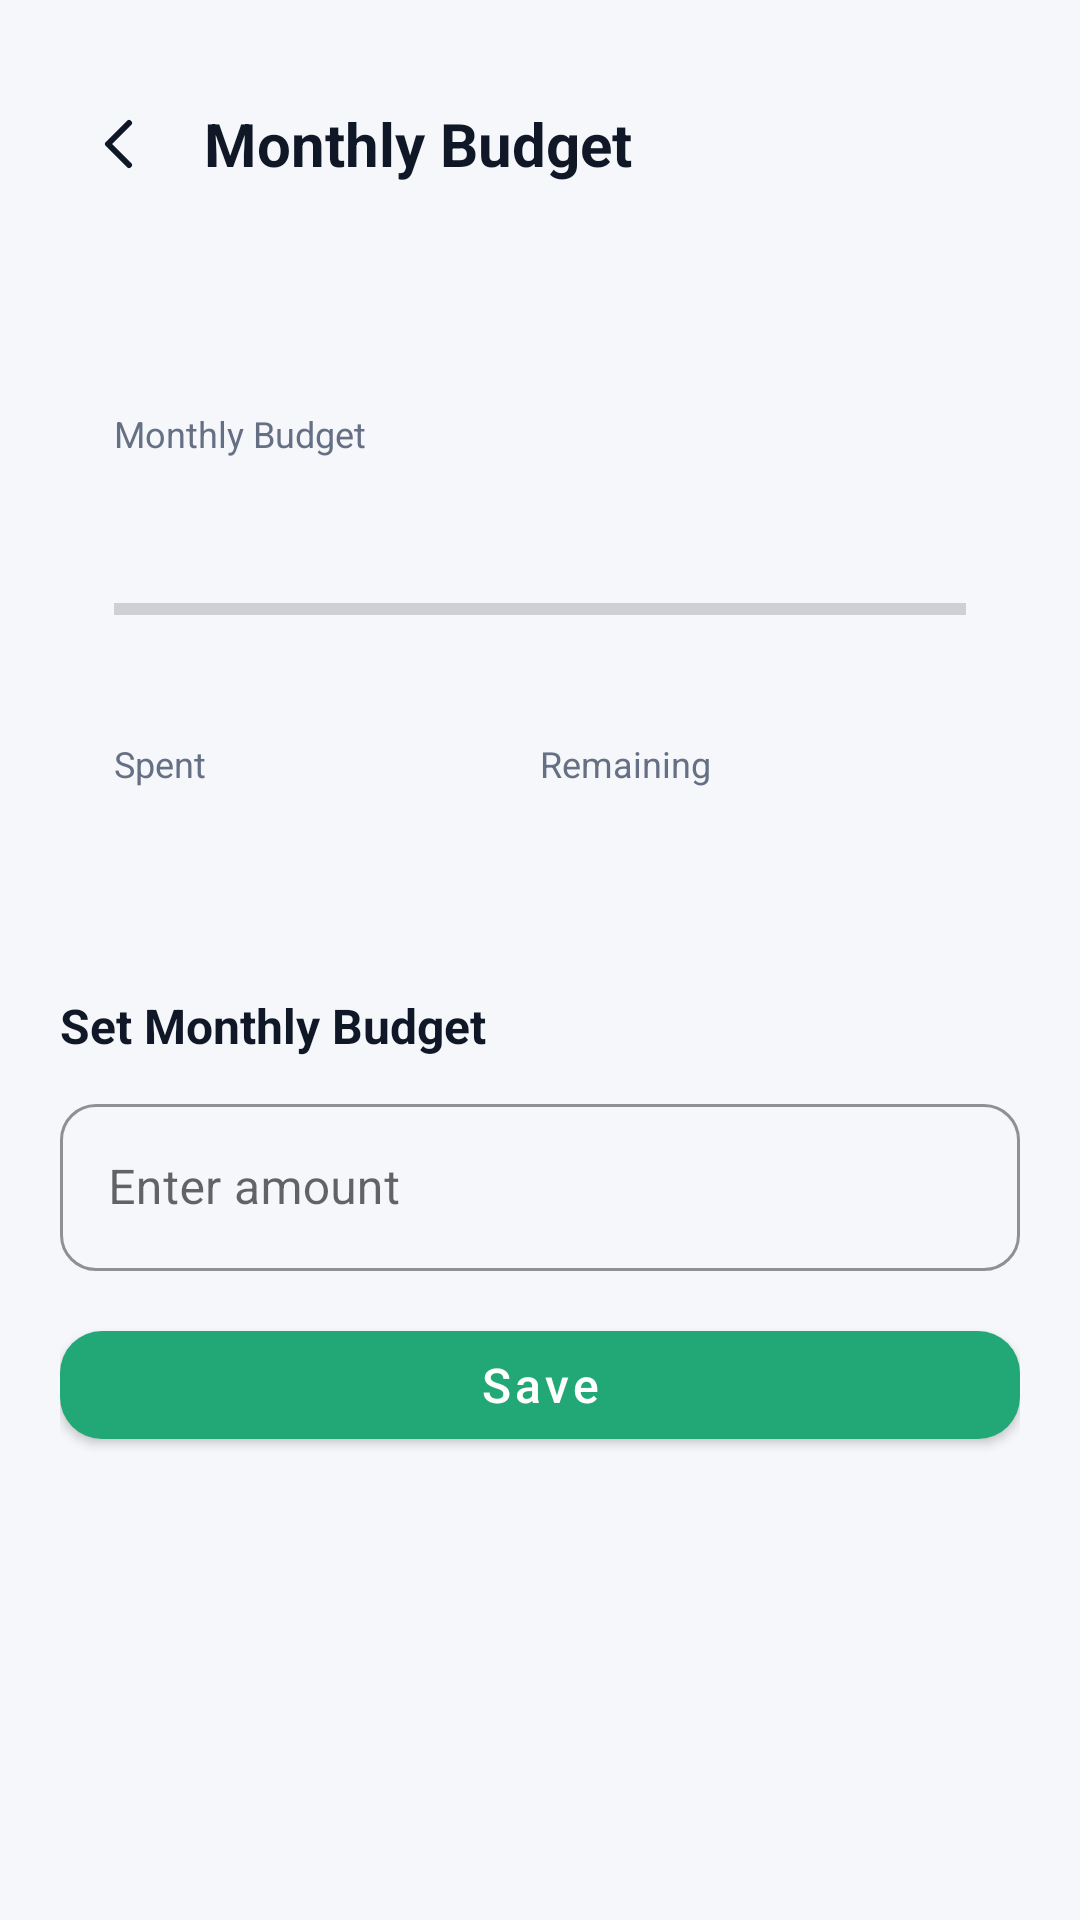

Screen size 1080px×1920px. Icon name, then its center in pixels as point (x, y):
Back to Login: point (118, 144)
